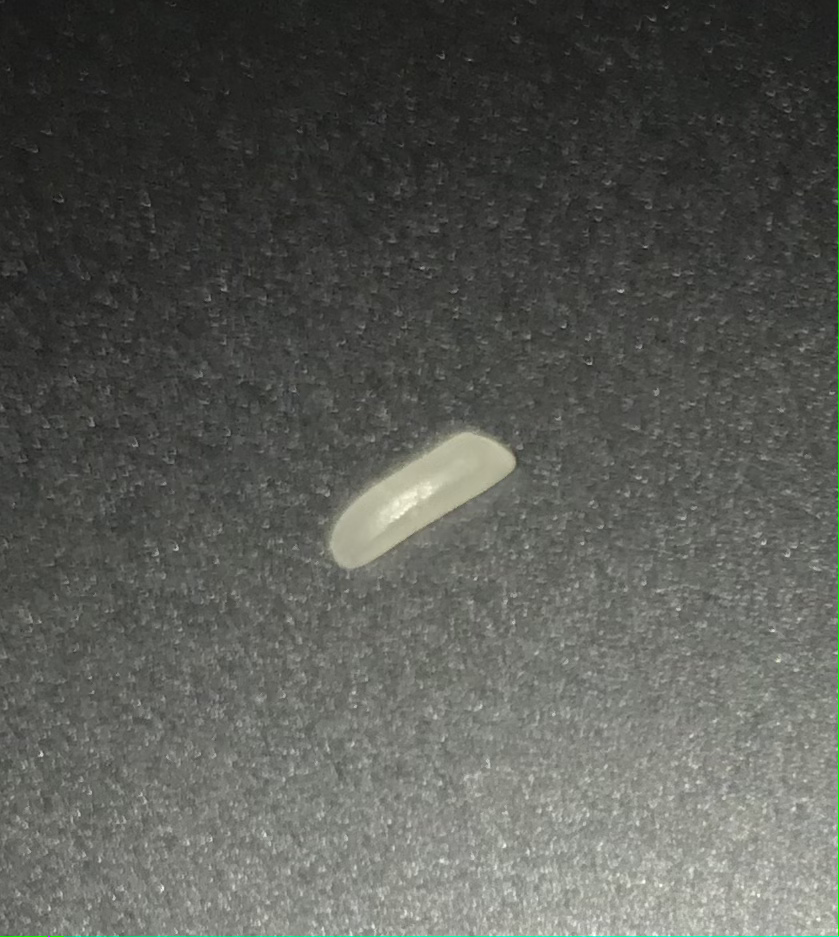Gao Long Lai: (318, 410, 524, 597)
